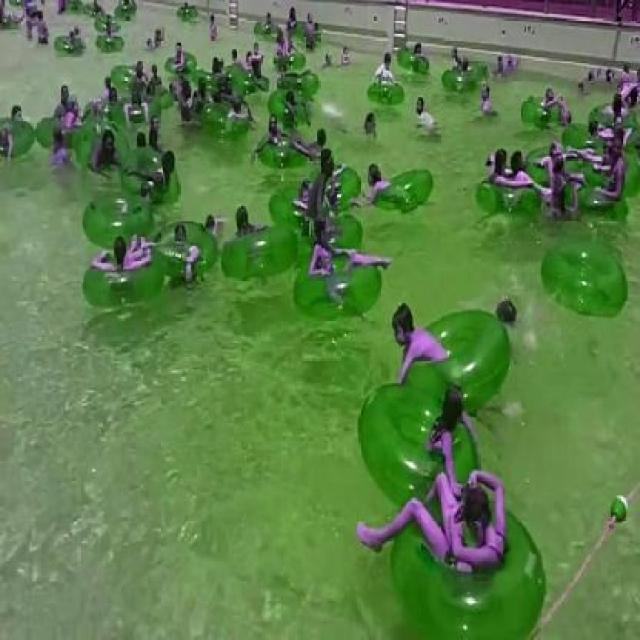drowning: (494, 288, 524, 348), (412, 98, 440, 138), (477, 82, 497, 126), (359, 113, 376, 147), (338, 40, 356, 72), (497, 46, 515, 72), (322, 42, 336, 73)
